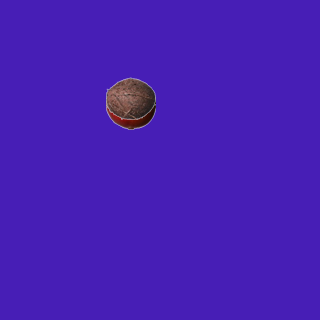Apple Braeburn: (105, 79, 155, 129)
Cocos: (105, 73, 155, 123)
